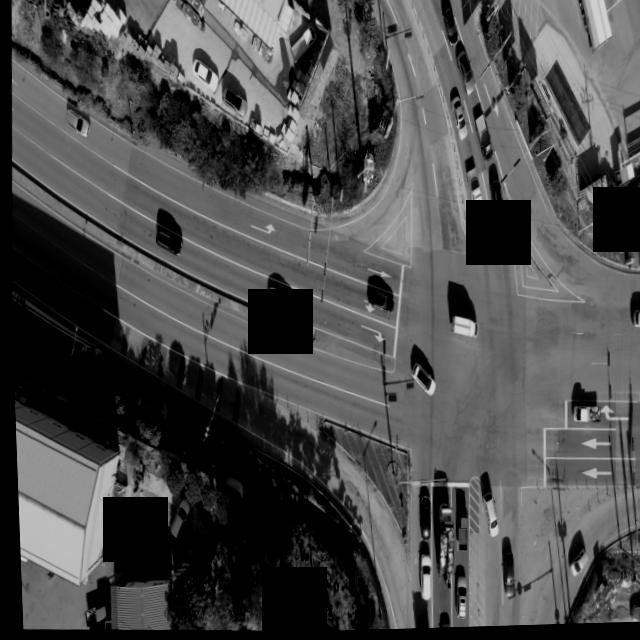car: (191, 57, 219, 91), (408, 363, 433, 399), (154, 228, 181, 259), (167, 500, 187, 541), (451, 97, 469, 142), (489, 180, 506, 226), (64, 108, 90, 138), (441, 6, 459, 49), (364, 288, 392, 315), (497, 554, 513, 600), (223, 84, 247, 114), (415, 556, 430, 602), (267, 287, 293, 313), (415, 497, 430, 542), (564, 549, 583, 579), (452, 578, 464, 618), (625, 607, 640, 626), (630, 312, 640, 331), (434, 622, 445, 630)
medium_truck: (573, 0, 613, 53), (431, 504, 450, 578)
small_truck: (473, 111, 495, 166), (289, 26, 316, 65), (455, 50, 476, 97), (463, 166, 482, 217), (477, 493, 496, 539), (79, 602, 107, 628), (448, 314, 476, 339), (453, 508, 468, 552), (569, 405, 598, 427)
